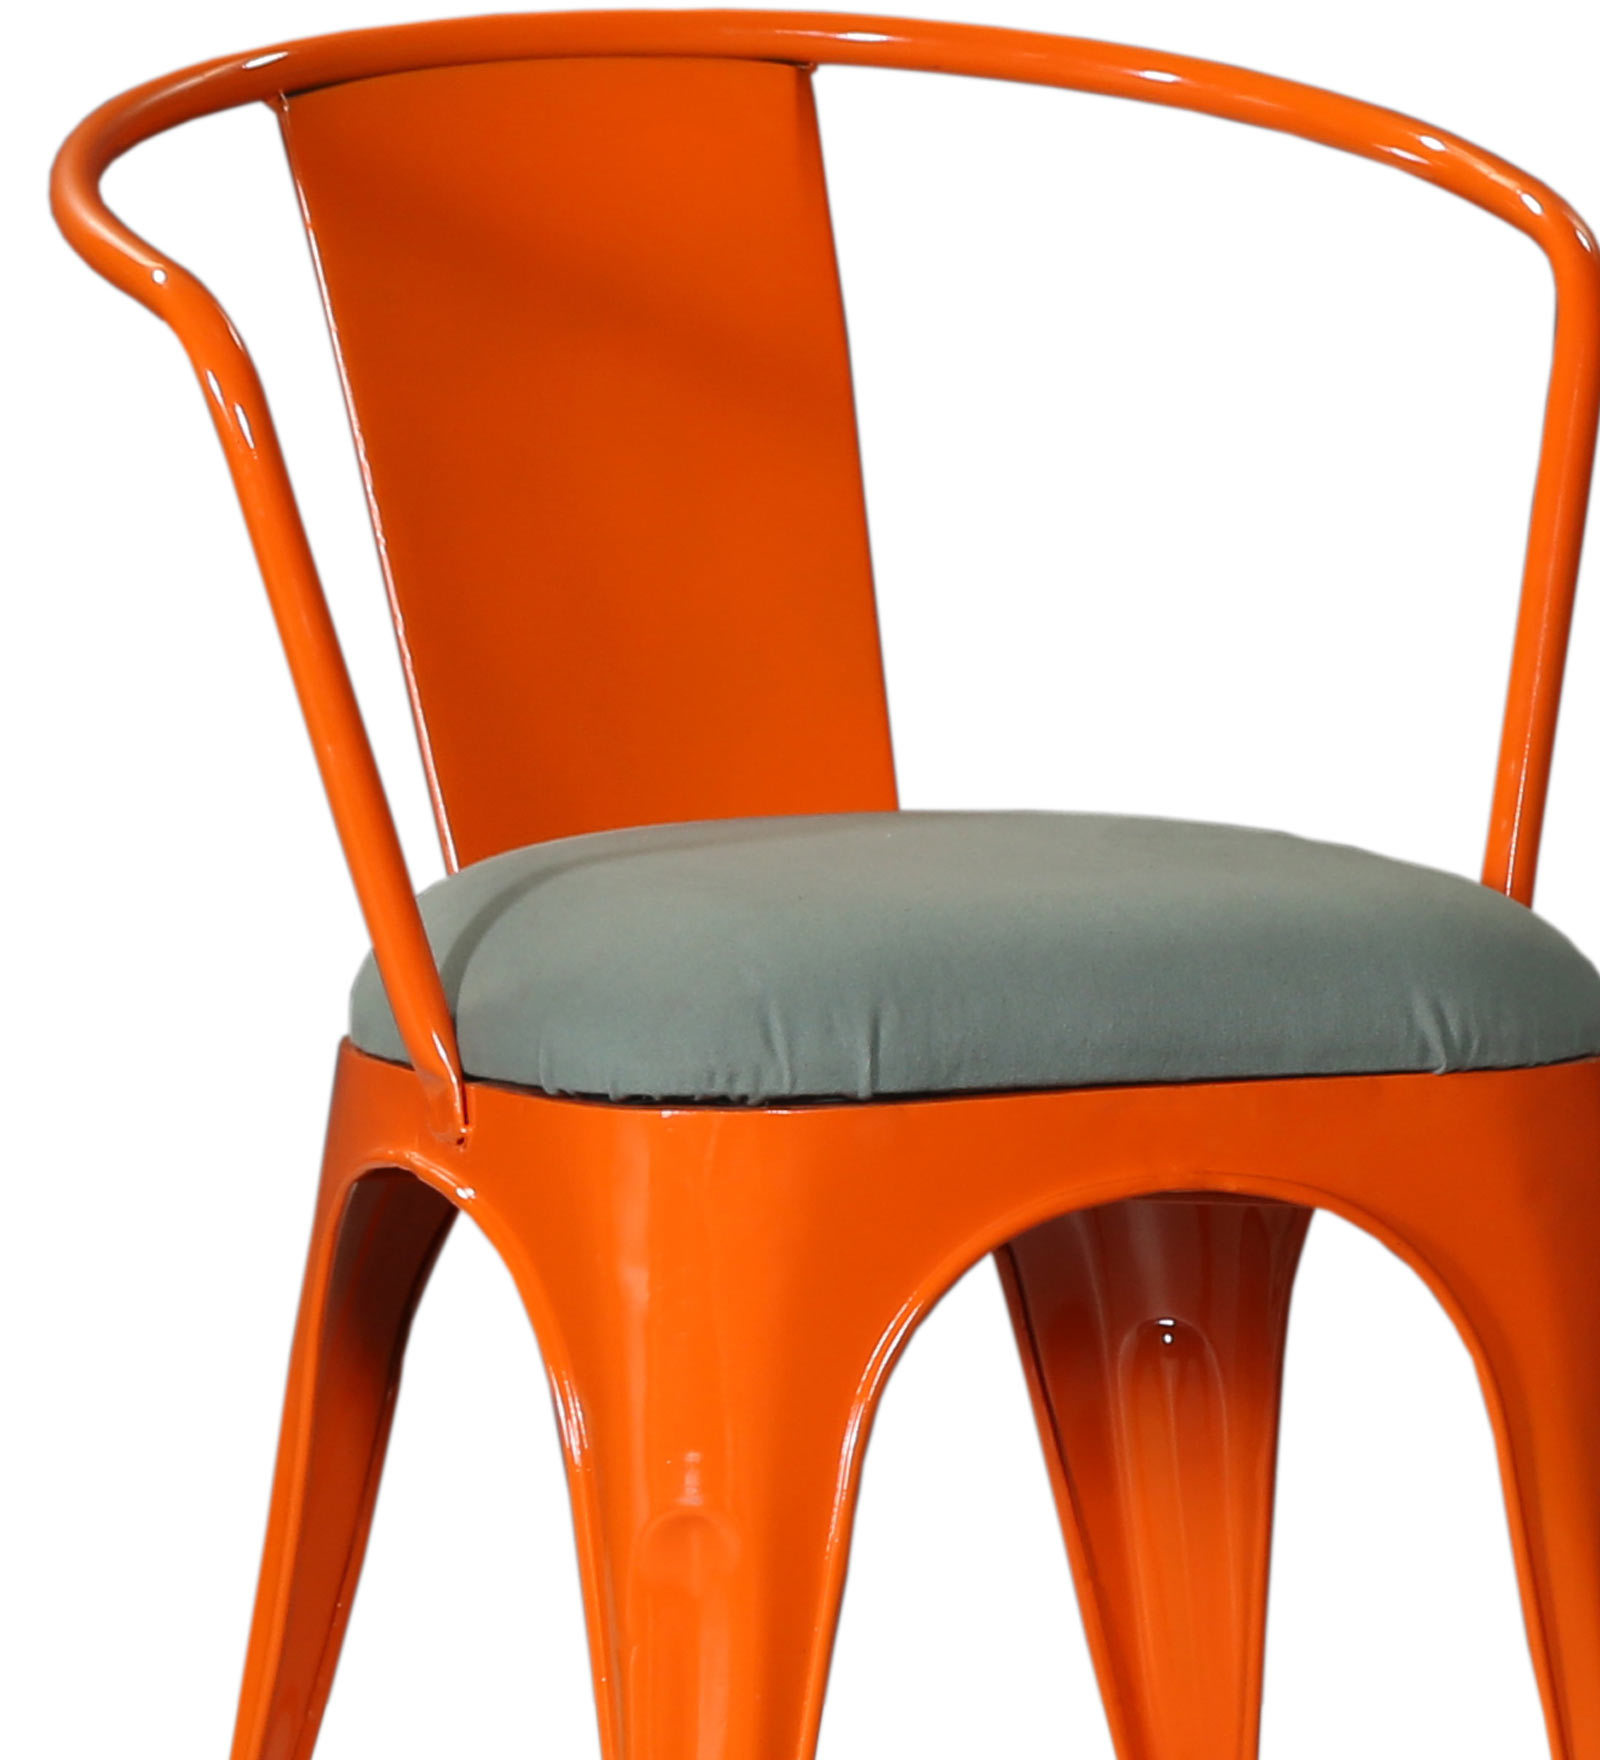Danlou Metal Chair with Cushion In Orange Colour by Bohemiana: (34, 26, 1600, 1758)
